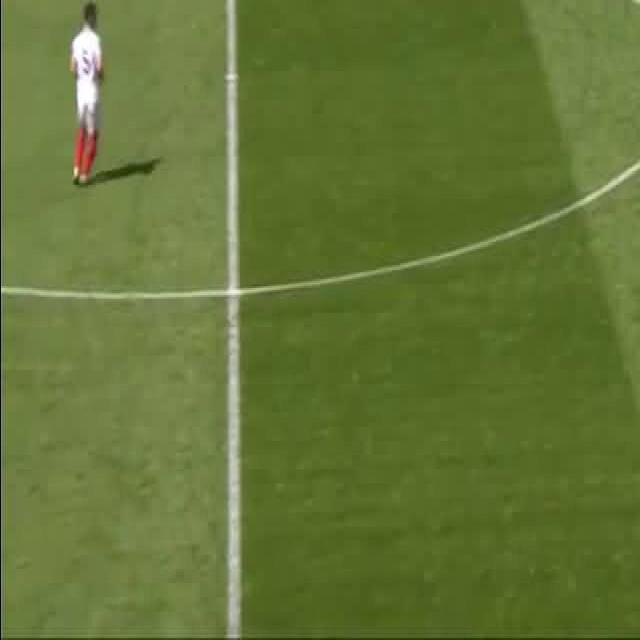player-white: (68, 2, 104, 184)
